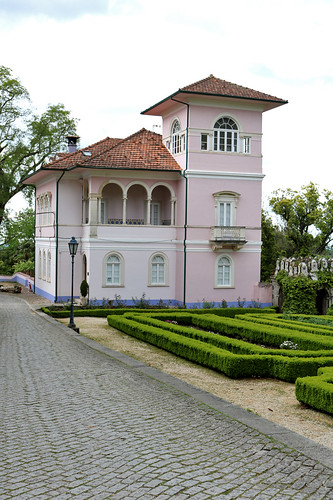low: (21, 72, 292, 314)
